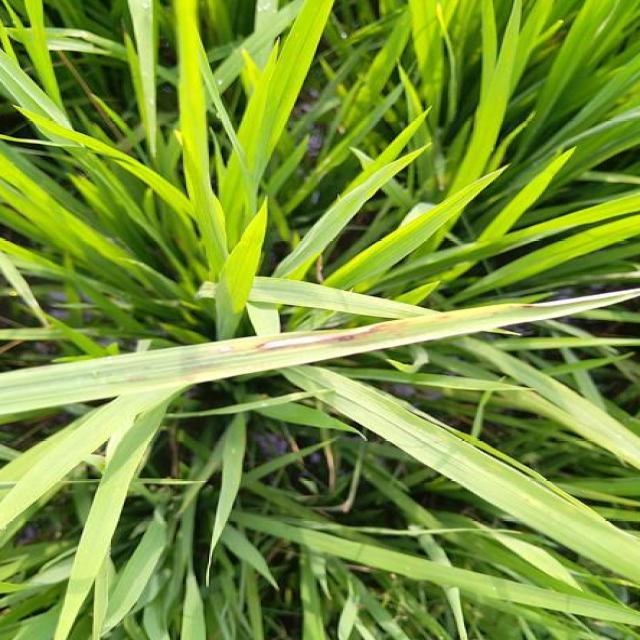Leaf Streak: (166, 321, 412, 355), (517, 287, 640, 309)
